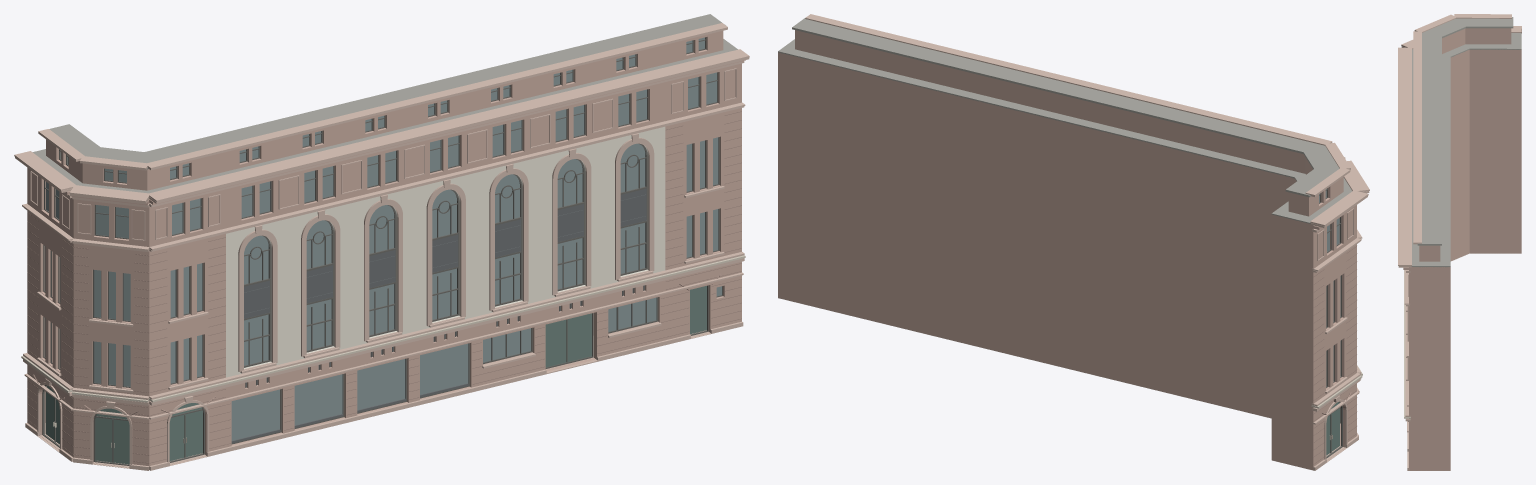
Rendered from huangpu-yee-tsoong-tobacco-northeast-front-raw.glb.
3 views of the same model, side by side, from view 1: azimuth 30°, elevation 25°; view 2: azimuth 150°, elevation 25°; view 3: azimuth 270°, elevation 25° (orthographic). The views are drawn at different scales.
Parts seen in each view (by area): view 1: 颐中大楼南苏州路北面与东北抹角; view 2: 颐中大楼南苏州路北面与东北抹角; view 3: 颐中大楼南苏州路北面与东北抹角.
Part boxes in pixels (x1=…): 颐中大楼南苏州路北面与东北抹角: x1=14, y1=14, x2=749, y2=470; 颐中大楼南苏州路北面与东北抹角: x1=778, y1=14, x2=1369, y2=470; 颐中大楼南苏州路北面与东北抹角: x1=1398, y1=14, x2=1521, y2=470.
Size of the model in its own units: 43.99 by 19.23 by 9.62.
